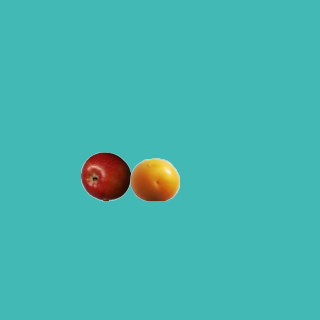Apple Braeburn: (80, 151, 130, 201)
Cherry Wax Yellow: (129, 154, 179, 204)
